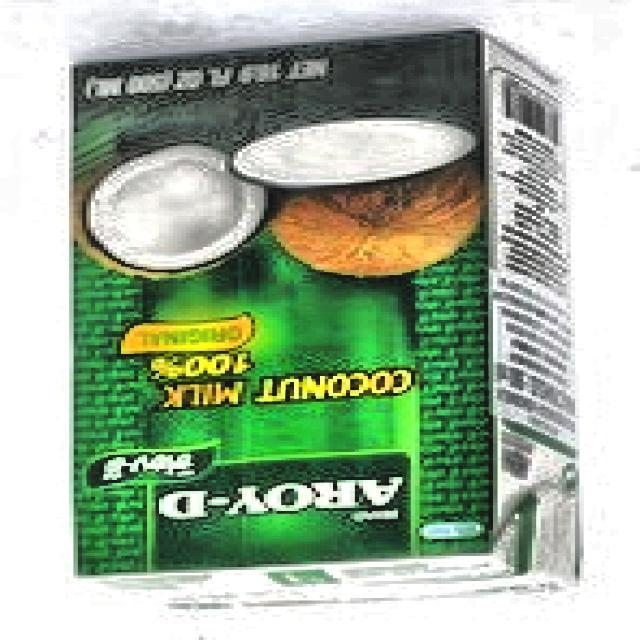cardboard: (69, 31, 584, 612)
